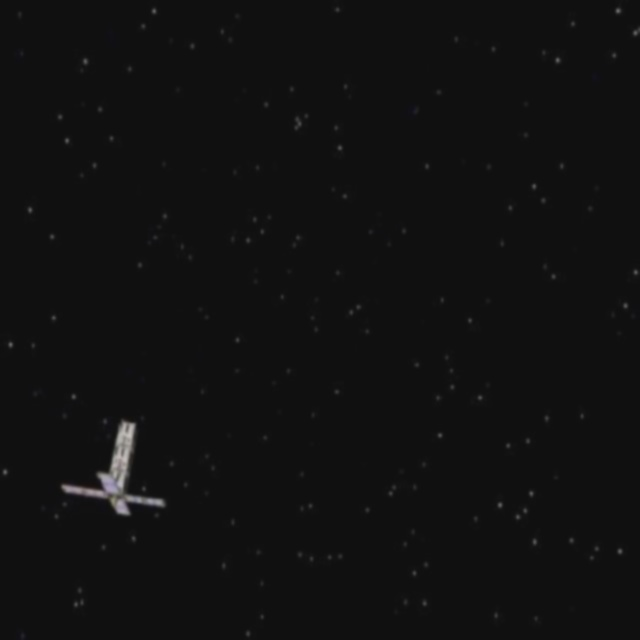medium_debris: (50, 411, 169, 525)
